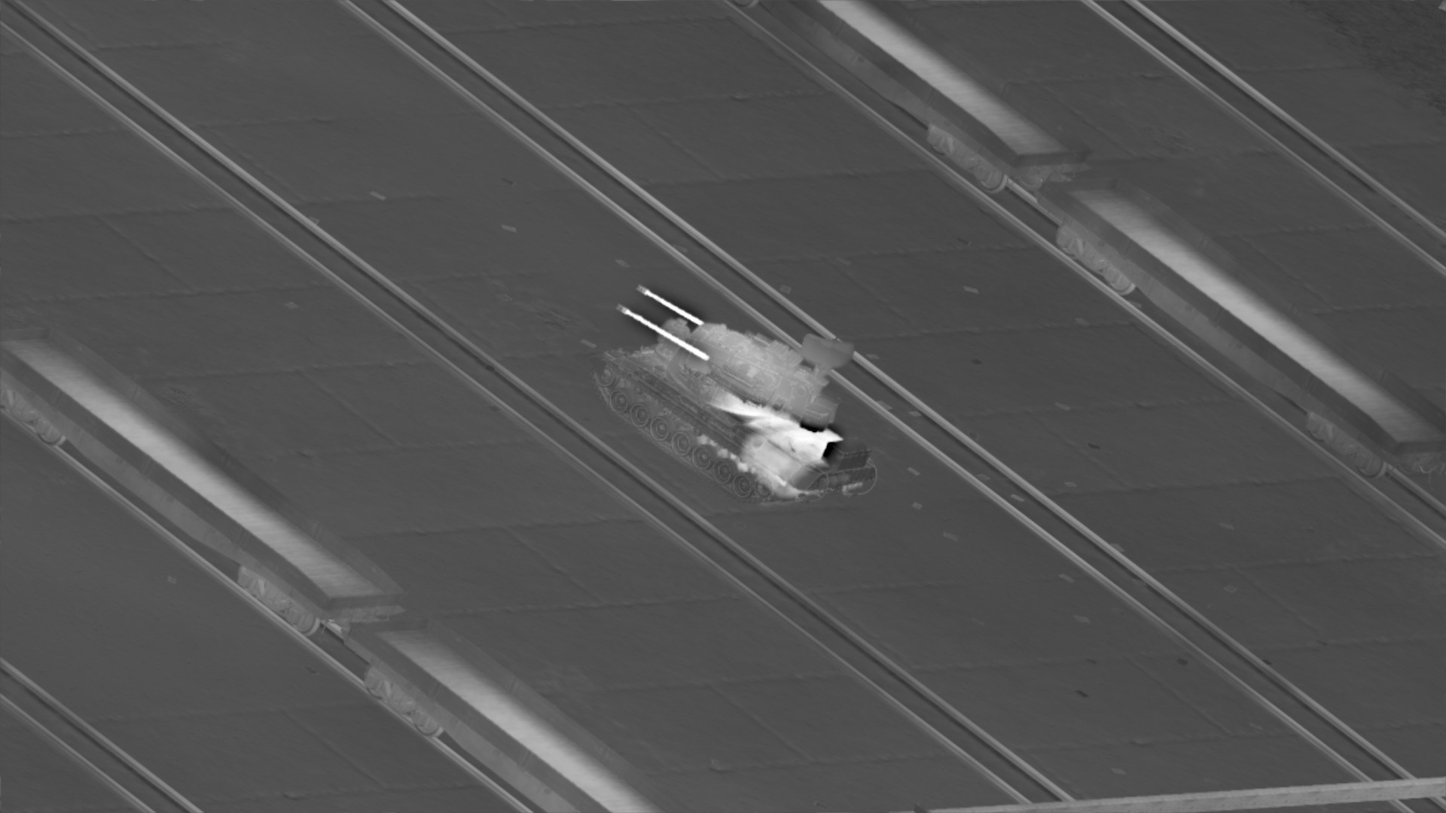spaa_gepard: (587, 285, 878, 506)
